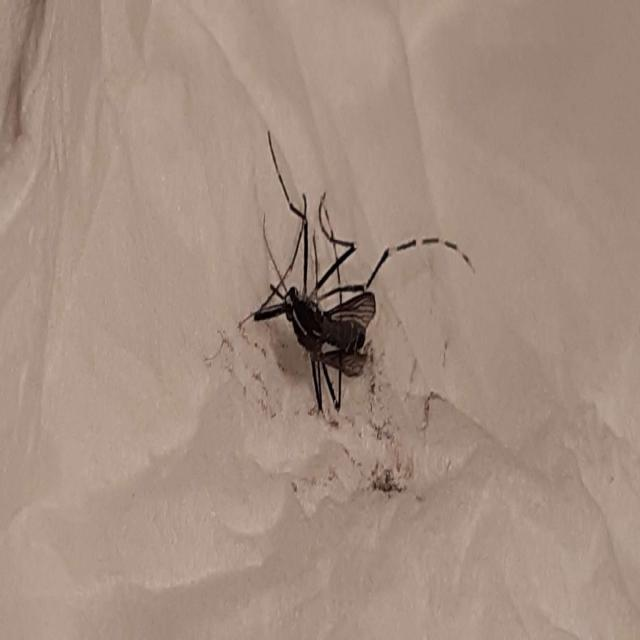albopictus: (210, 111, 470, 432)
